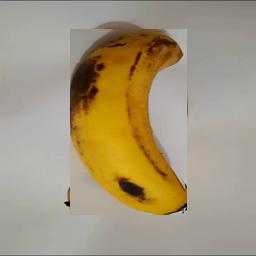Banana Semifresh: (70, 29, 187, 215)
